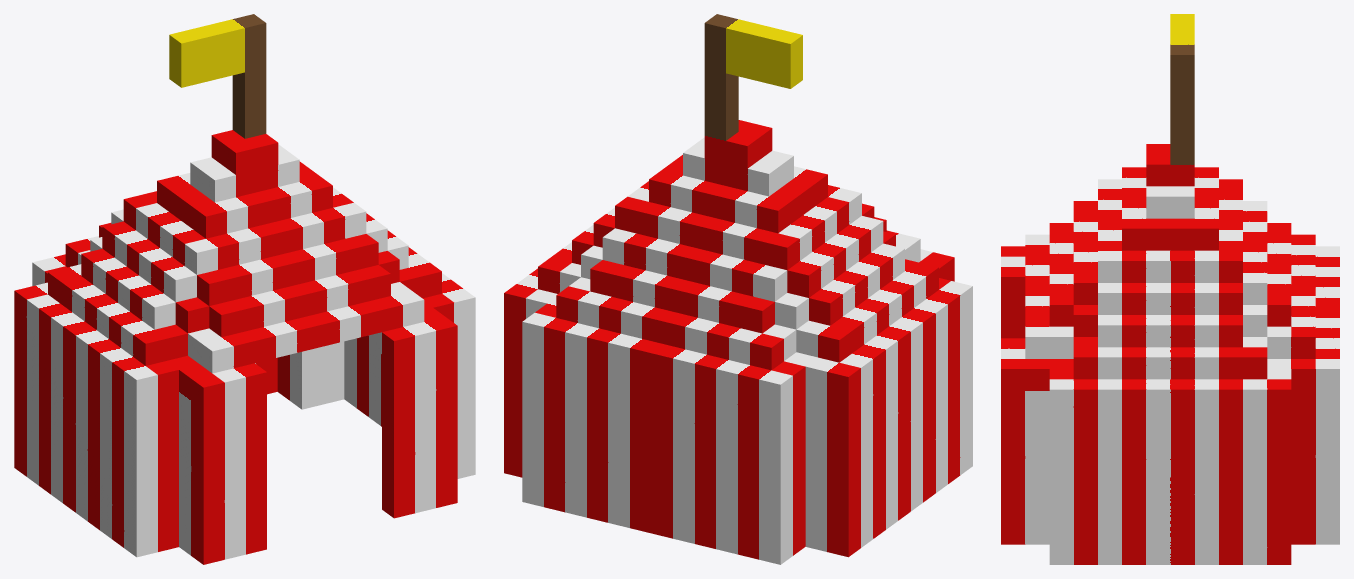
File: BigTop.dae
The picture shows the model from 3 angles, left to right: view 1: azimuth 30°, elevation 25°; view 2: azimuth 150°, elevation 25°; view 3: azimuth 270°, elevation 25°; orthographic projection. The views are drawn at different scales.
Visible parts, largest first — view 1: BigTop; view 2: BigTop; view 3: BigTop.
Part boxes in pixels (left/top/right/bottom): BigTop: left=14, top=14, right=475, bottom=564; BigTop: left=504, top=14, right=972, bottom=564; BigTop: left=1001, top=14, right=1339, bottom=564.
Bounding box in the file's own units: 16 × 20 × 14.
1 material, 1 textured.
